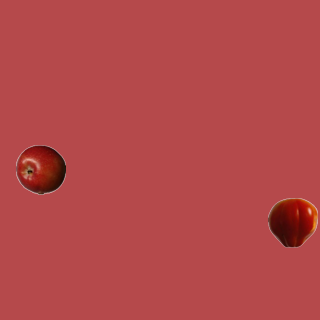Apple Braeburn: (15, 144, 65, 194)
Tomato 1: (267, 197, 317, 247)
